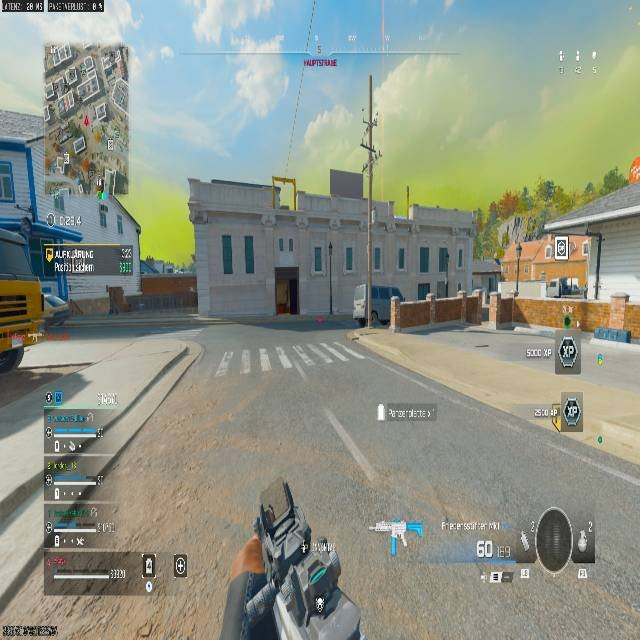player: (555, 271, 576, 296)
